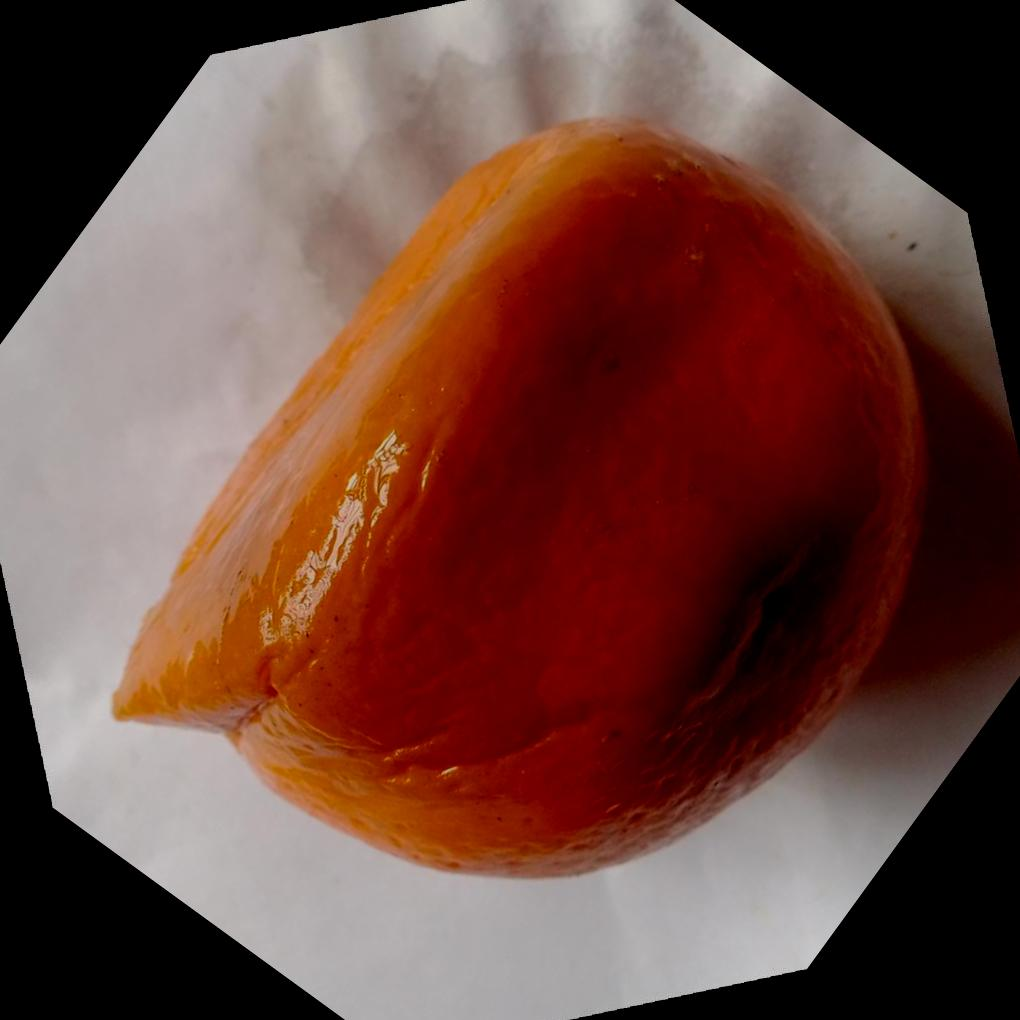FreshOrange: (111, 116, 934, 883)
